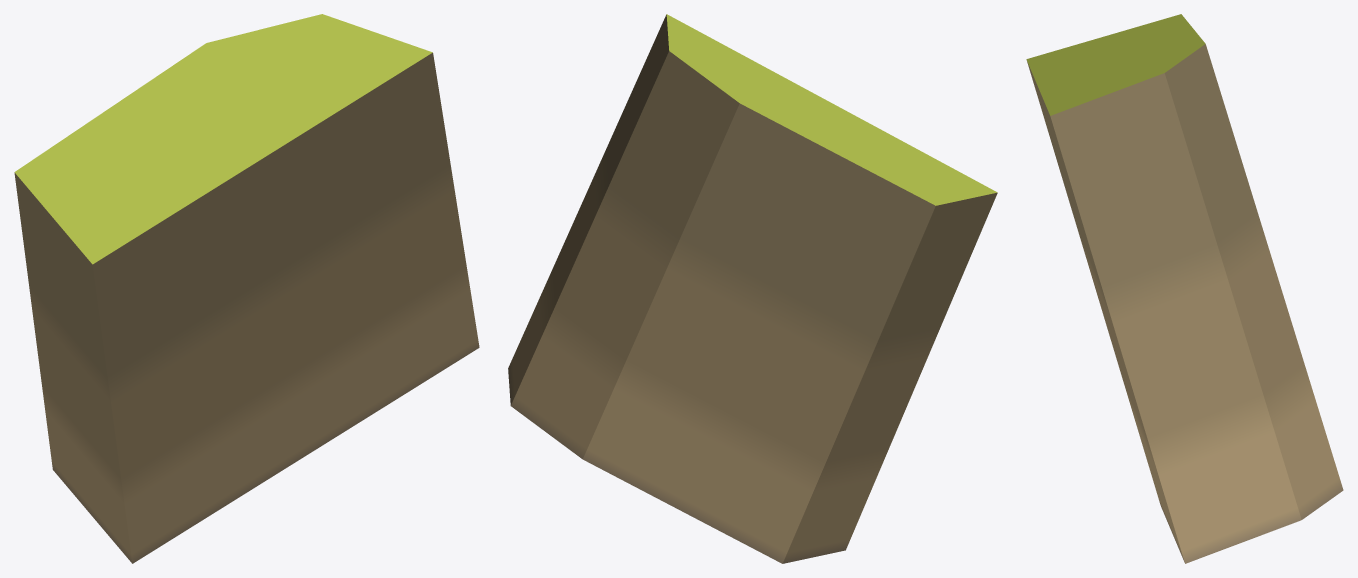
Rendered from 063e_Gambia.glb.
The picture shows the model from 3 angles, left to right: view 1: azimuth 30°, elevation 25°; view 2: azimuth 150°, elevation 25°; view 3: azimuth 270°, elevation 25°; orthographic projection. The views are drawn at different scales.
Visible parts, largest first — view 1: part_0; view 2: part_0; view 3: part_0.
Part boxes in pixels (left/top/right/bottom): part_0: left=14, top=14, right=479, bottom=563; part_0: left=508, top=14, right=997, bottom=563; part_0: left=1026, top=14, right=1343, bottom=563.
Bounding box in the file's own units: 0.2425 × 0.249 × 0.1345.
Materials: 1 (1 with a texture image).
